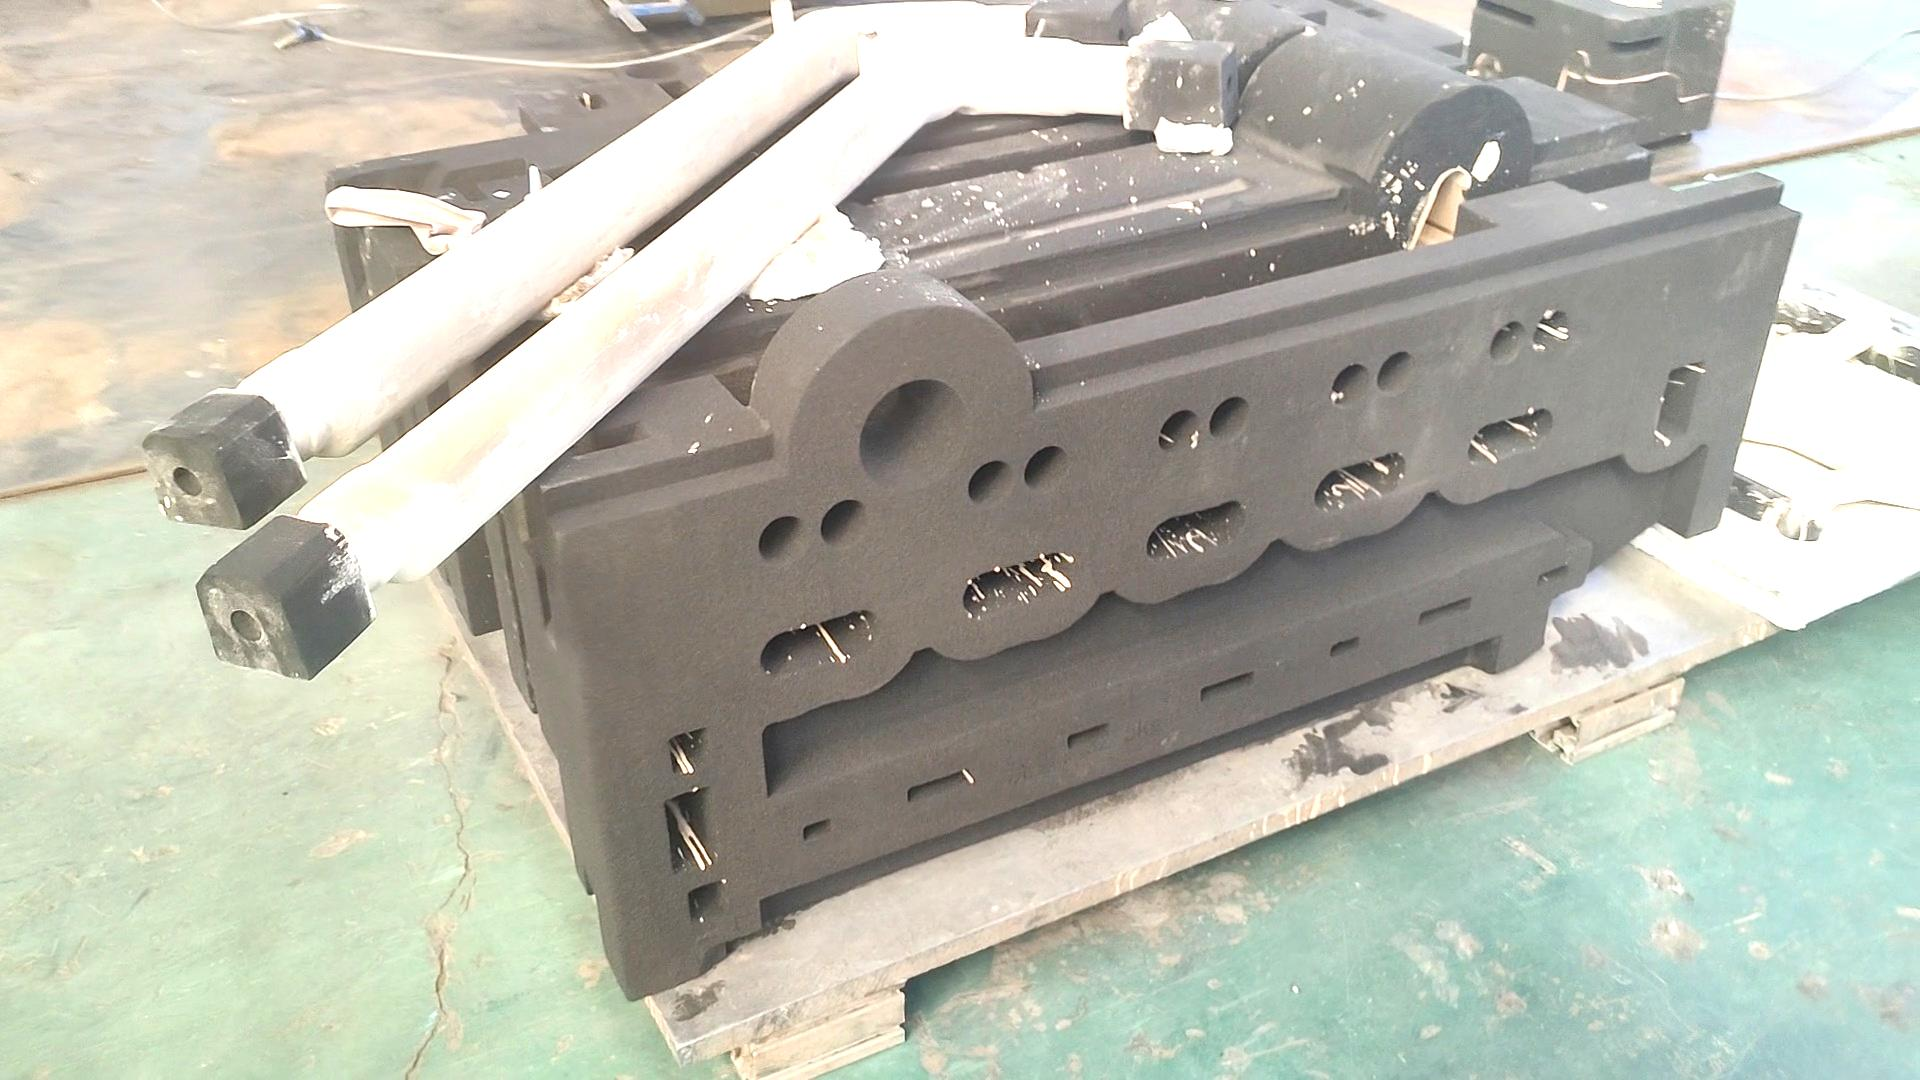pouring hole: (856, 378, 972, 495), (621, 59, 683, 78)
